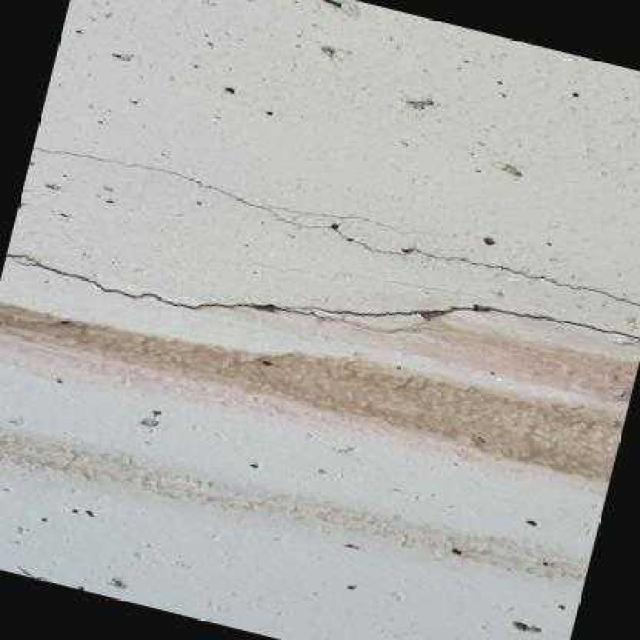D00: (31, 139, 640, 310), (6, 246, 640, 342)
